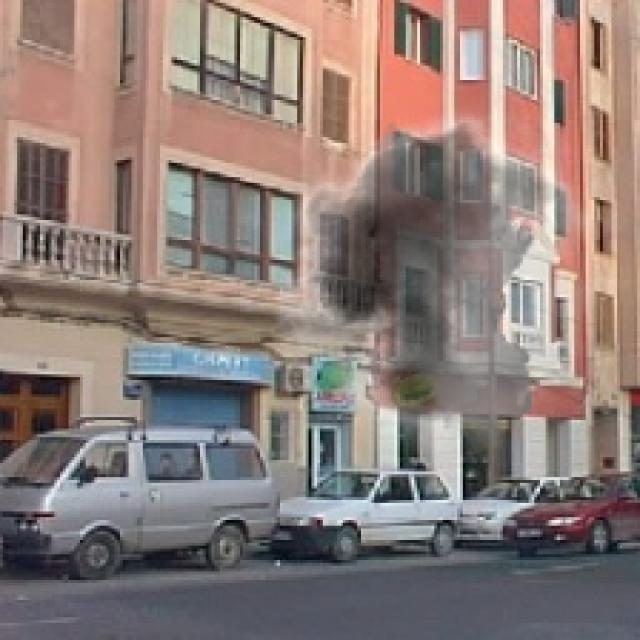Smoke: (255, 92, 634, 454)
